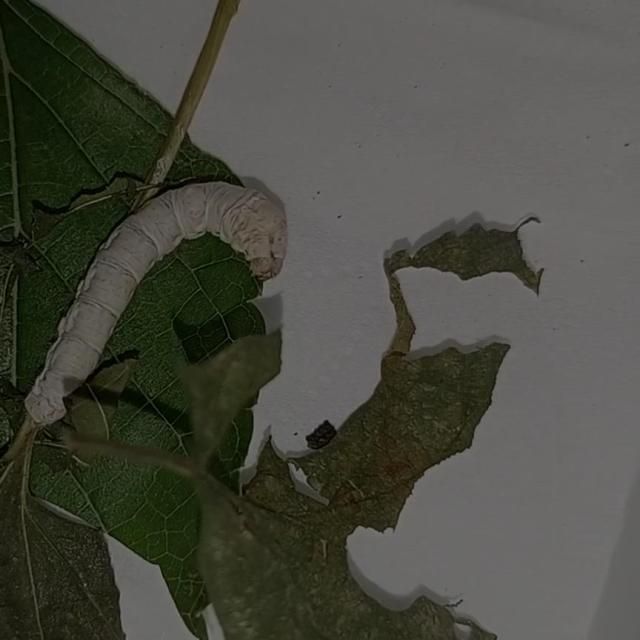Healthy: (19, 142, 294, 466)
